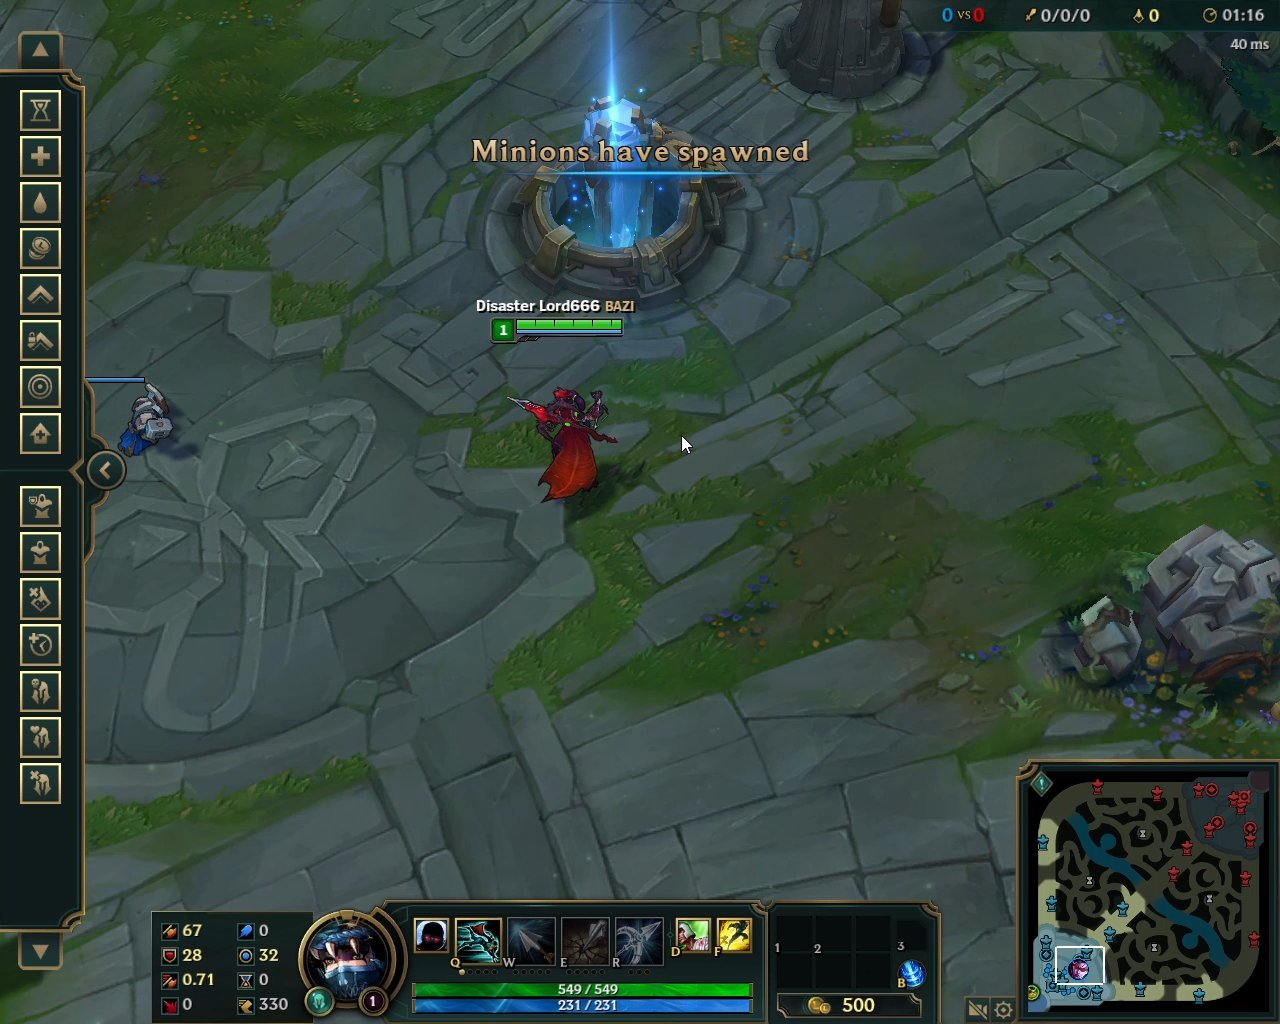Vayne: (499, 378, 626, 509)
